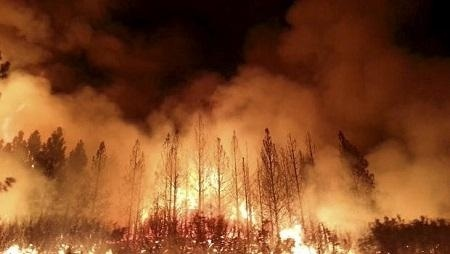fire: (142, 160, 322, 254), (277, 221, 316, 253)
